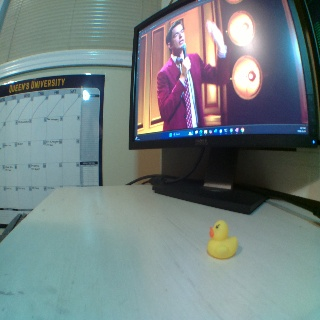duck_regular: (208, 218, 238, 259)
